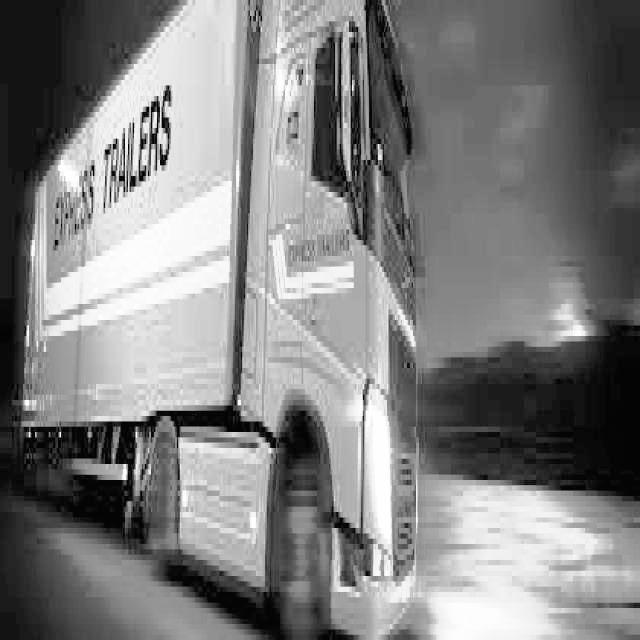Truck: (11, 0, 420, 635)
